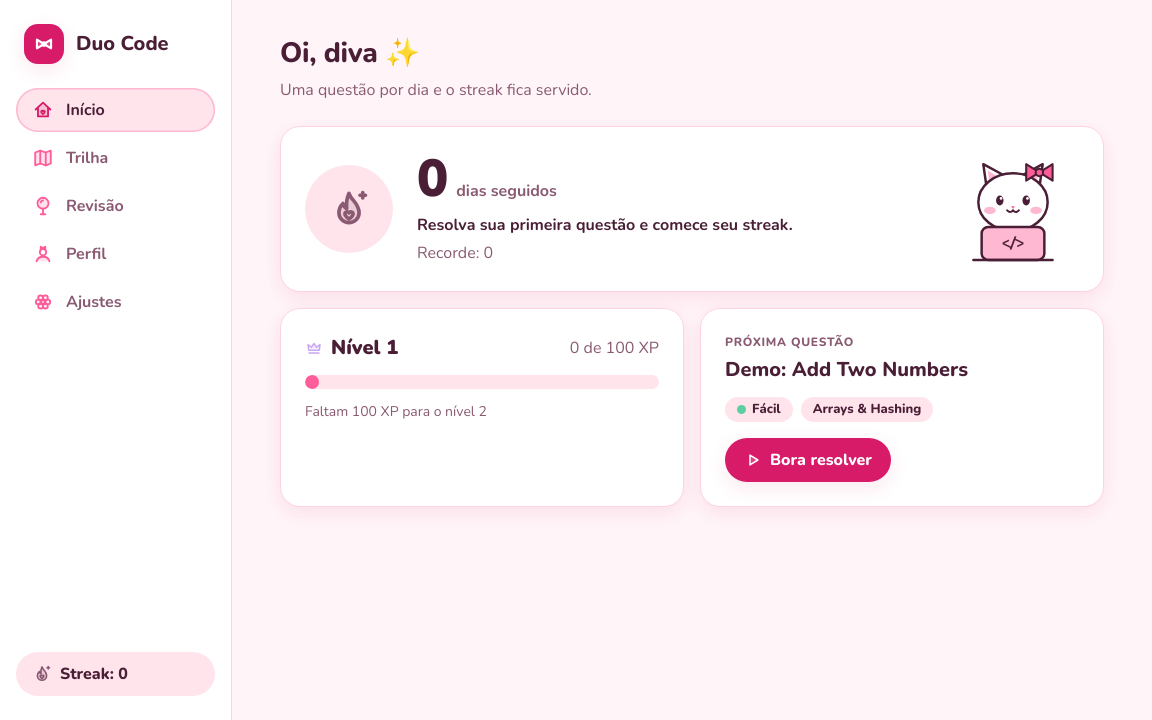
Test: fila de revisão (005 RF-2, RF-3) › vazia e sem histórico: convida a resolver a primeira questão
The image size is (1152, 720).
Click the link "Revisão" at x=78, y=206, box x1=32 y1=195 x2=124 y2=217
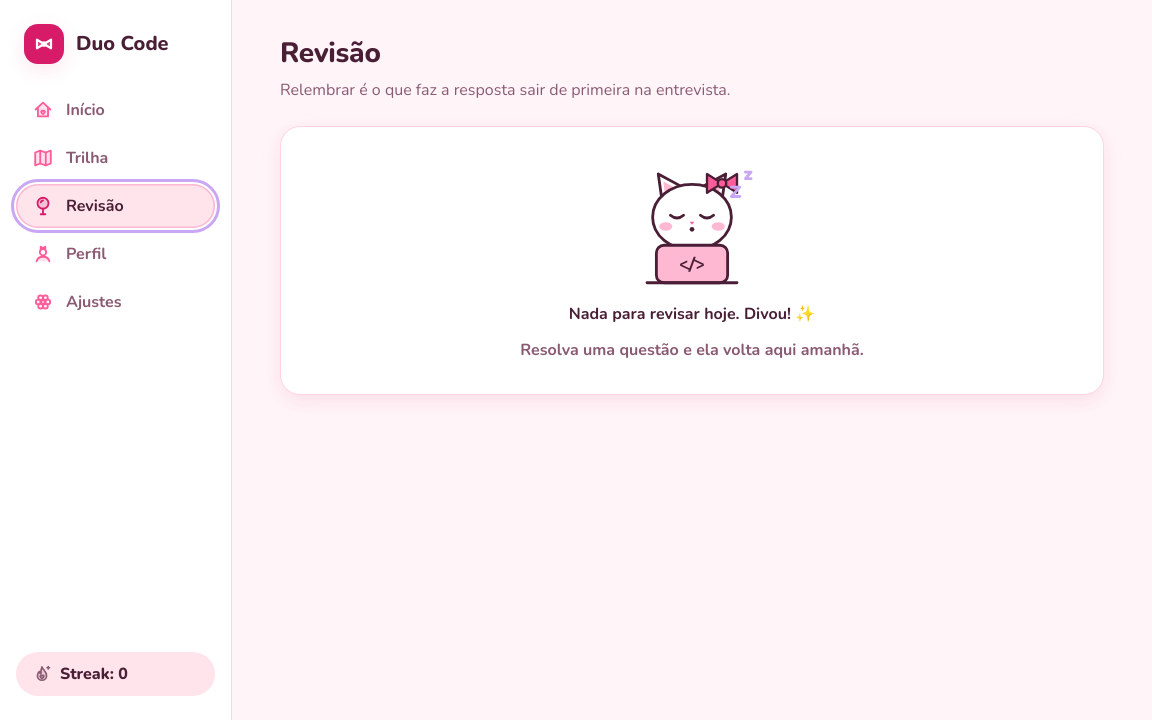
Result: the text "Nada para revisar hoje. Divou! ✨" is shown at x1=569 y1=302 x2=815 y2=326
Result: the text "Resolva uma questão e ela volta aqui amanhã." is shown at x1=520 y1=338 x2=864 y2=362
